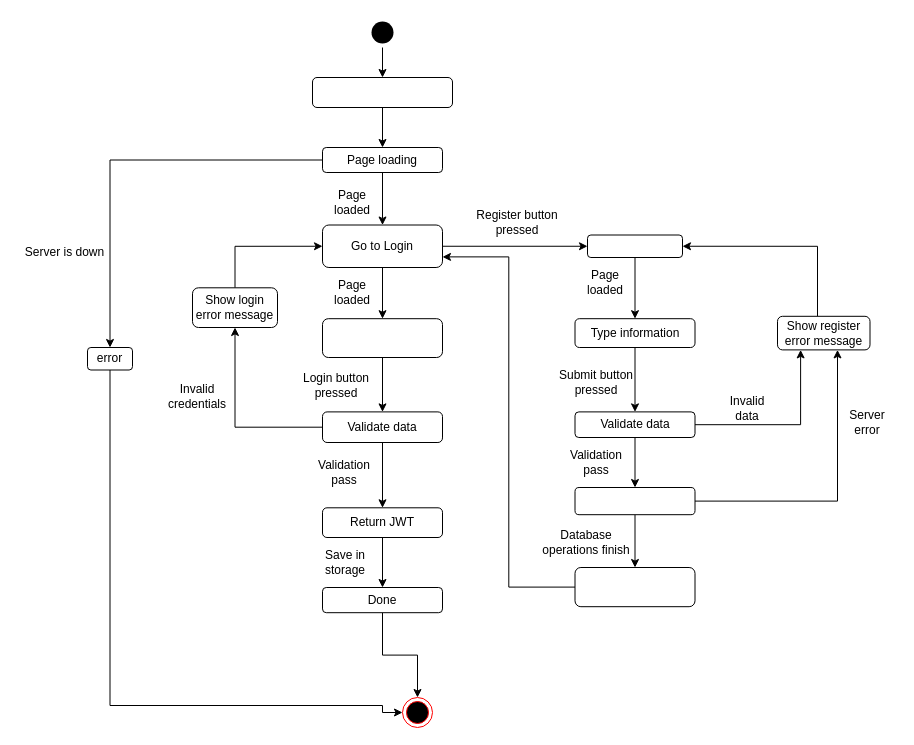
The diagram is 914 pixels wide and 745 high, and some of its shapes have lost their labels. The centre of each missing label's shape, as x and y in pixels:
Create user: point (634, 500)
Go to Register: point (634, 246)
Navigate to page: point (382, 92)
Type email and password: point (382, 338)
User successfully created: point (634, 586)
